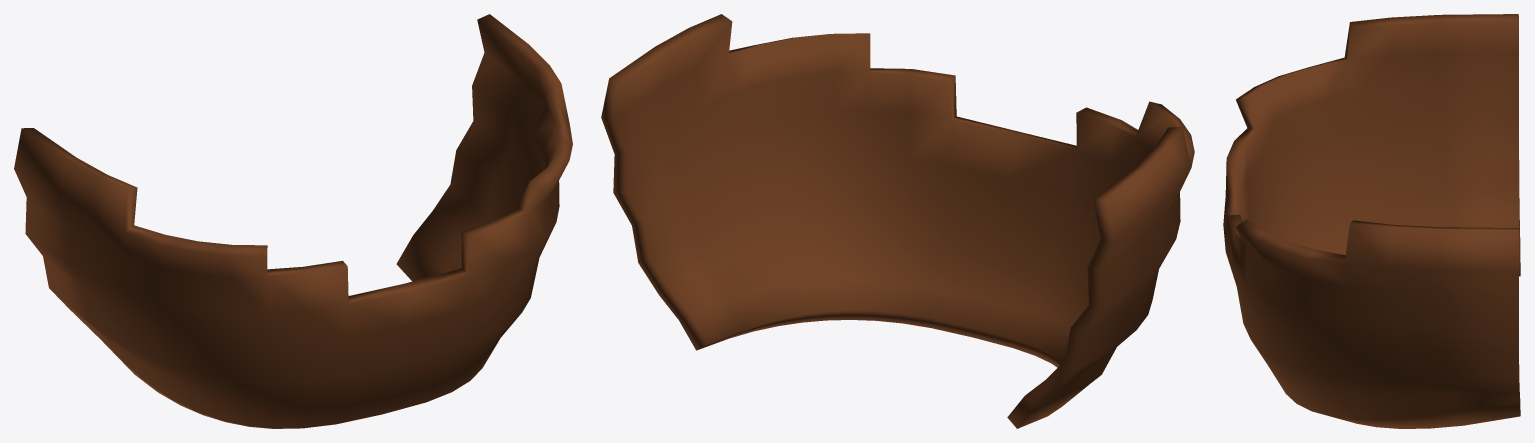
File: bart.glb
The picture shows the model from 3 angles, left to right: view 1: azimuth 30°, elevation 25°; view 2: azimuth 150°, elevation 25°; view 3: azimuth 270°, elevation 25°; orthographic projection. The views are drawn at different scales.
Visible parts, largest first — view 1: bart; view 2: bart; view 3: bart.
Part boxes in pixels (x1,y1,x2,y2): bart: (14,14,572,428); bart: (601,14,1194,428); bart: (1223,14,1520,428).
Size of the model in its own units: 0.5343 by 0.2814 by 0.2994.
